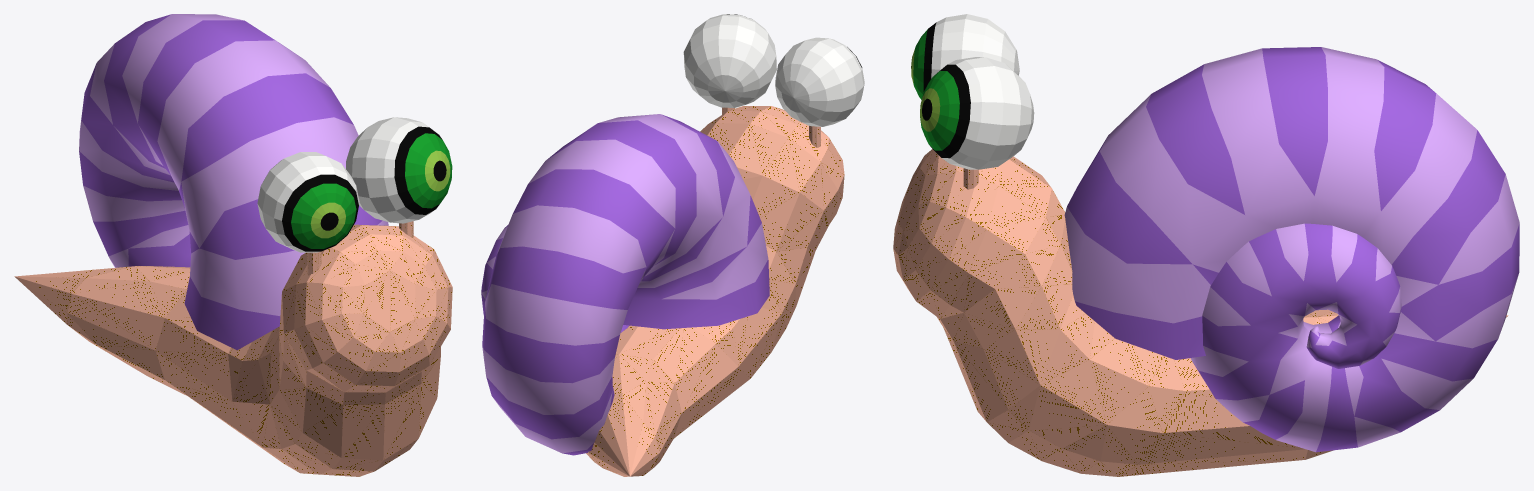
The model's file is Ingredient_snail_1.fbx.
The picture shows the model from 3 angles, left to right: view 1: azimuth 30°, elevation 25°; view 2: azimuth 150°, elevation 25°; view 3: azimuth 270°, elevation 25°; orthographic projection. The views are drawn at different scales.
Visible parts, largest first — view 1: Smail.002; view 2: Smail.002; view 3: Smail.002.
Boxes of the visible parts, bbox=[...] form: Smail.002: bbox=[14, 14, 452, 476]; Smail.002: bbox=[481, 14, 864, 476]; Smail.002: bbox=[893, 14, 1519, 476].
Bounding box in the file's own units: 15.4 × 23.54 × 32.49.
